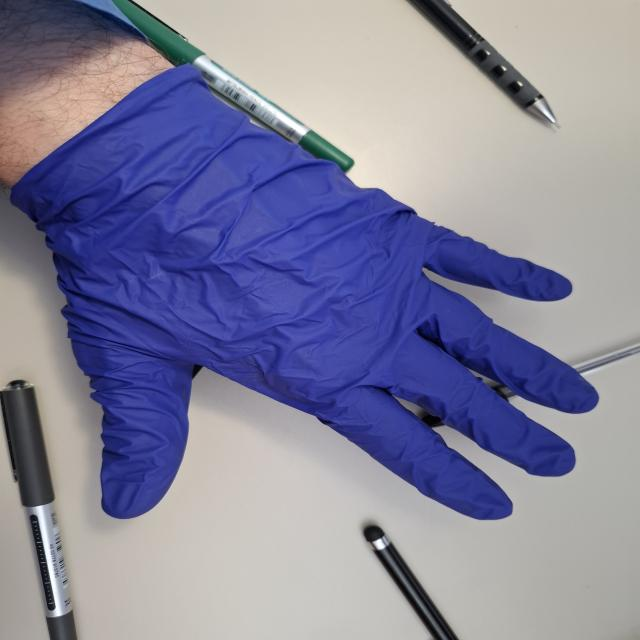glove_on: (9, 60, 604, 525)
